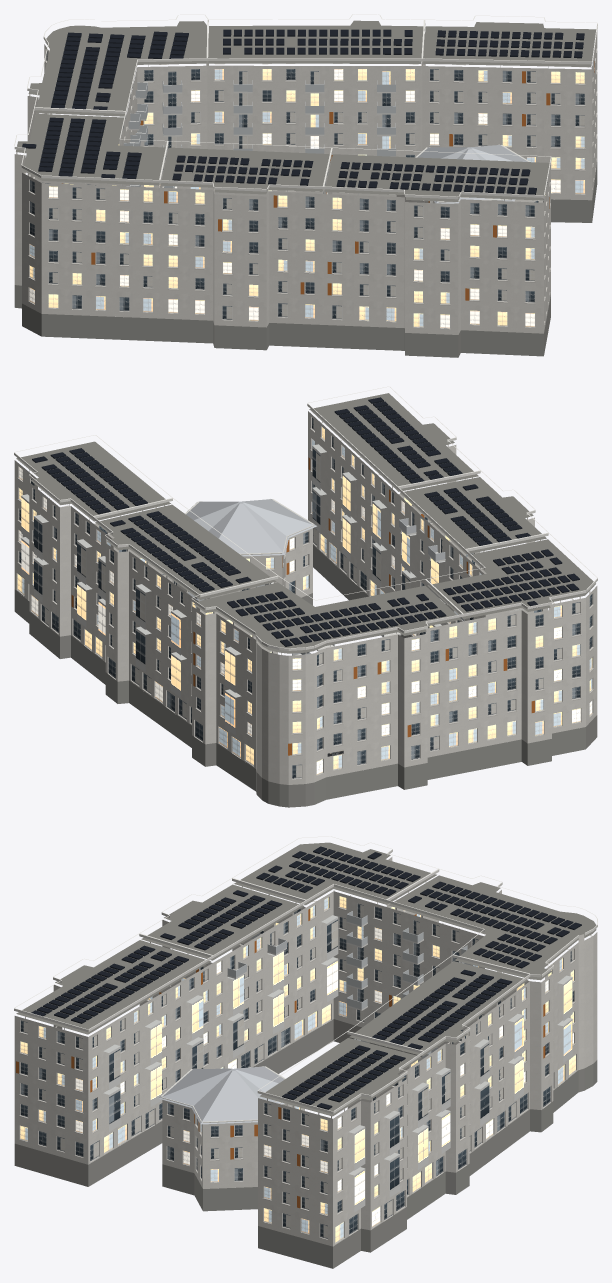
Rendered from hz_egli_nord.glb.
3 renders of one model, top to bottom at view 1: azimuth 30°, elevation 25°; view 2: azimuth 150°, elevation 25°; view 3: azimuth 270°, elevation 25°, orthographic. The views are drawn at different scales.
Visible parts, largest first — view 1: hz_egli_nord; view 2: hz_egli_nord; view 3: hz_egli_nord.
Boxes of the visible parts, box(x1,y1,x2,y2) form: hz_egli_nord: box(14, 14, 597, 357); hz_egli_nord: box(14, 386, 597, 807); hz_egli_nord: box(14, 836, 597, 1268).
Size of the model in its own units: 87.58 by 23.35 by 78.44.
Materials: 3 (3 with a texture image).
